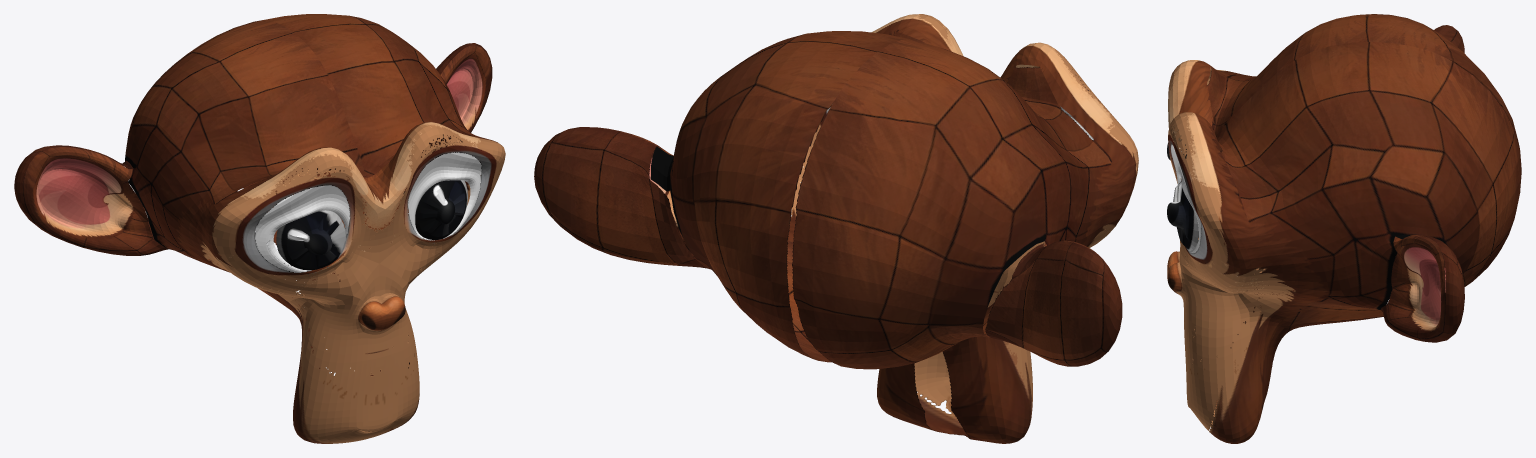
Rendered from monkey_wide.obj.
3 renders of one model, left to right at view 1: azimuth 30°, elevation 25°; view 2: azimuth 150°, elevation 25°; view 3: azimuth 270°, elevation 25°, orthographic. The views are drawn at different scales.
Visible parts, largest first — view 1: Suzanne; view 2: Suzanne; view 3: Suzanne.
Boxes of the visible parts, box(x1,y1,x2,y2) form: Suzanne: box(14, 14, 505, 443); Suzanne: box(534, 14, 1138, 443); Suzanne: box(1167, 14, 1521, 443).
Bounding box in the file's own units: 14.85 × 10.69 × 8.95.
